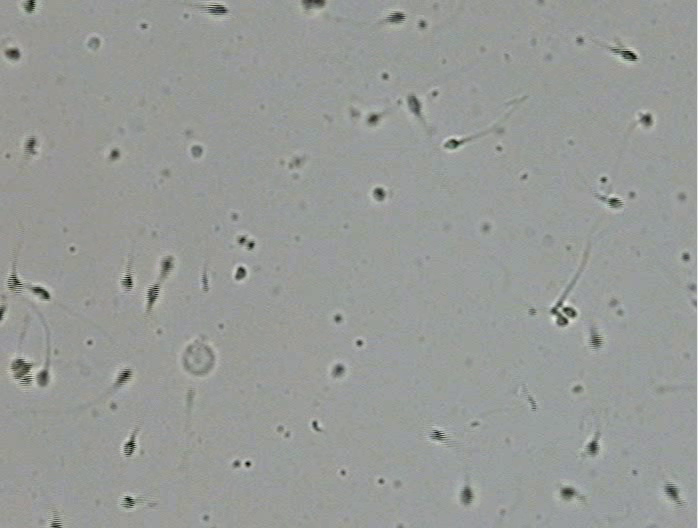Impurity: (183, 344, 216, 375), (86, 37, 100, 50)
S: (10, 358, 33, 387), (116, 367, 133, 387), (663, 482, 680, 502), (29, 286, 50, 301), (207, 3, 229, 16), (407, 94, 421, 114), (460, 486, 474, 505), (618, 48, 638, 61), (588, 334, 604, 350), (7, 274, 22, 291), (147, 282, 159, 303), (160, 256, 174, 274), (24, 136, 37, 155), (123, 439, 136, 458), (386, 11, 406, 23), (428, 429, 446, 442), (585, 440, 599, 456), (36, 369, 49, 386), (120, 275, 133, 291), (559, 487, 576, 499), (301, 1, 326, 9), (4, 48, 20, 60), (22, 1, 36, 14), (331, 364, 345, 377), (373, 187, 386, 201), (639, 113, 652, 127), (235, 266, 247, 281), (120, 496, 135, 508), (562, 306, 577, 318), (608, 197, 624, 208), (443, 139, 460, 149), (191, 145, 203, 158), (108, 148, 120, 160), (555, 315, 568, 326), (48, 518, 62, 528), (366, 113, 378, 124), (1, 305, 6, 322)
